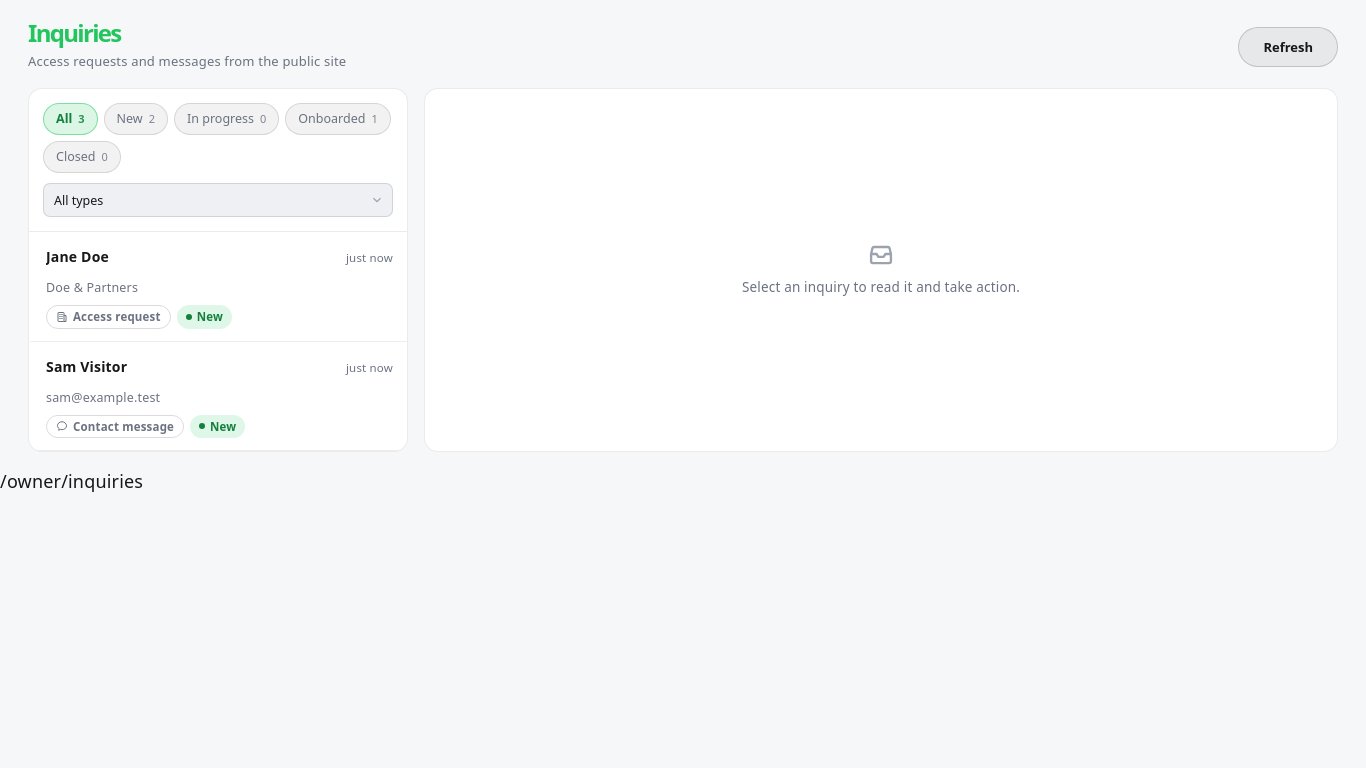
Test: Owner inquiries › onboards a firm from an access request with a prefilled form
What coordinates should you click on to do the following:
click the link "Jane Doe just now Doe & Partners Access request New"
I would click on:
 (77, 257)
Its box is [29, 232, 407, 342].
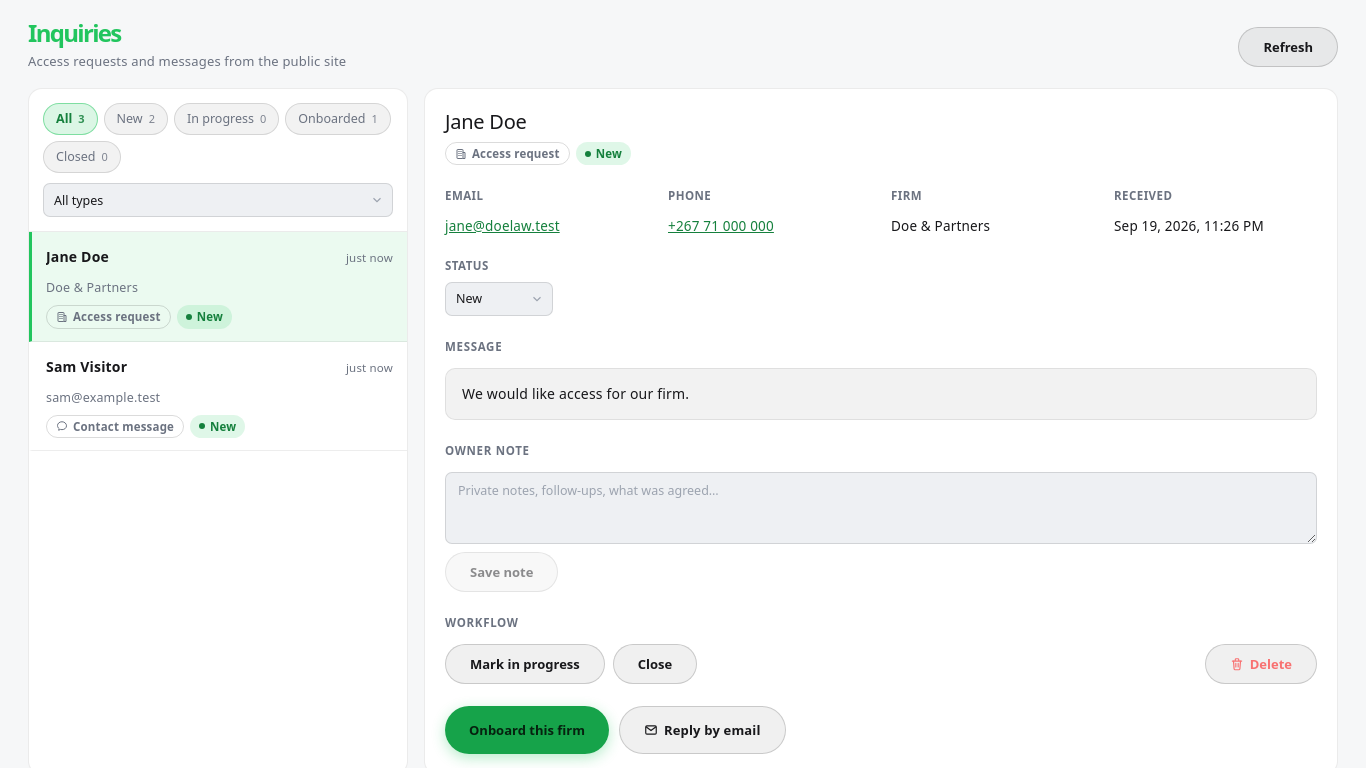
What coordinates should you click on to do the following:
click the button "Onboard this firm"
I would click on:
 (527, 730)
Its box is [445, 706, 609, 754].
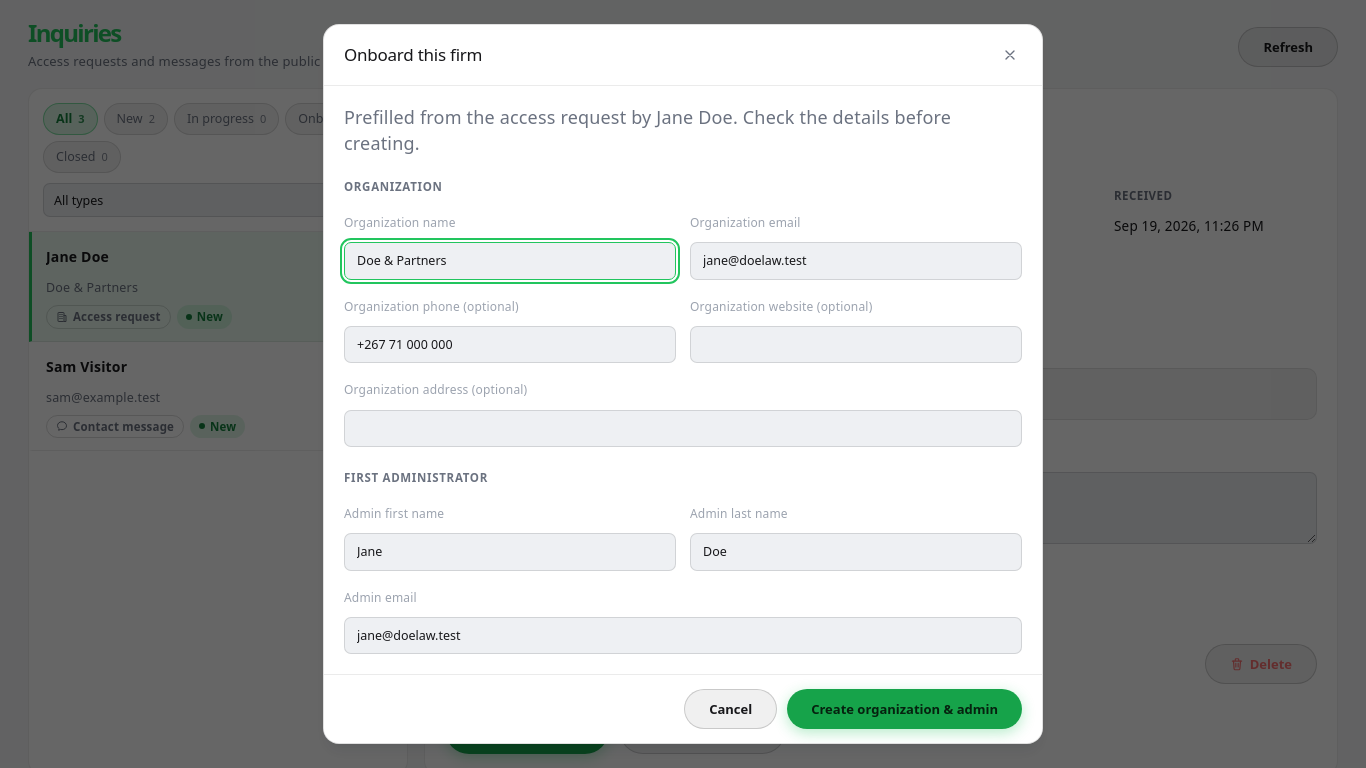
Check: the field labelled "Organization name" holds "Doe & Partners", box [344, 242, 676, 280]
Check: the field labelled "Admin first name" holds "Jane", box [344, 533, 676, 571]
Check: the field labelled "Admin last name" holds "Doe", box [690, 533, 1022, 571]
What coordinates should you click on to do the following:
click the button "Create organization & admin"
I would click on:
 (905, 709)
Its box is [787, 689, 1022, 729].
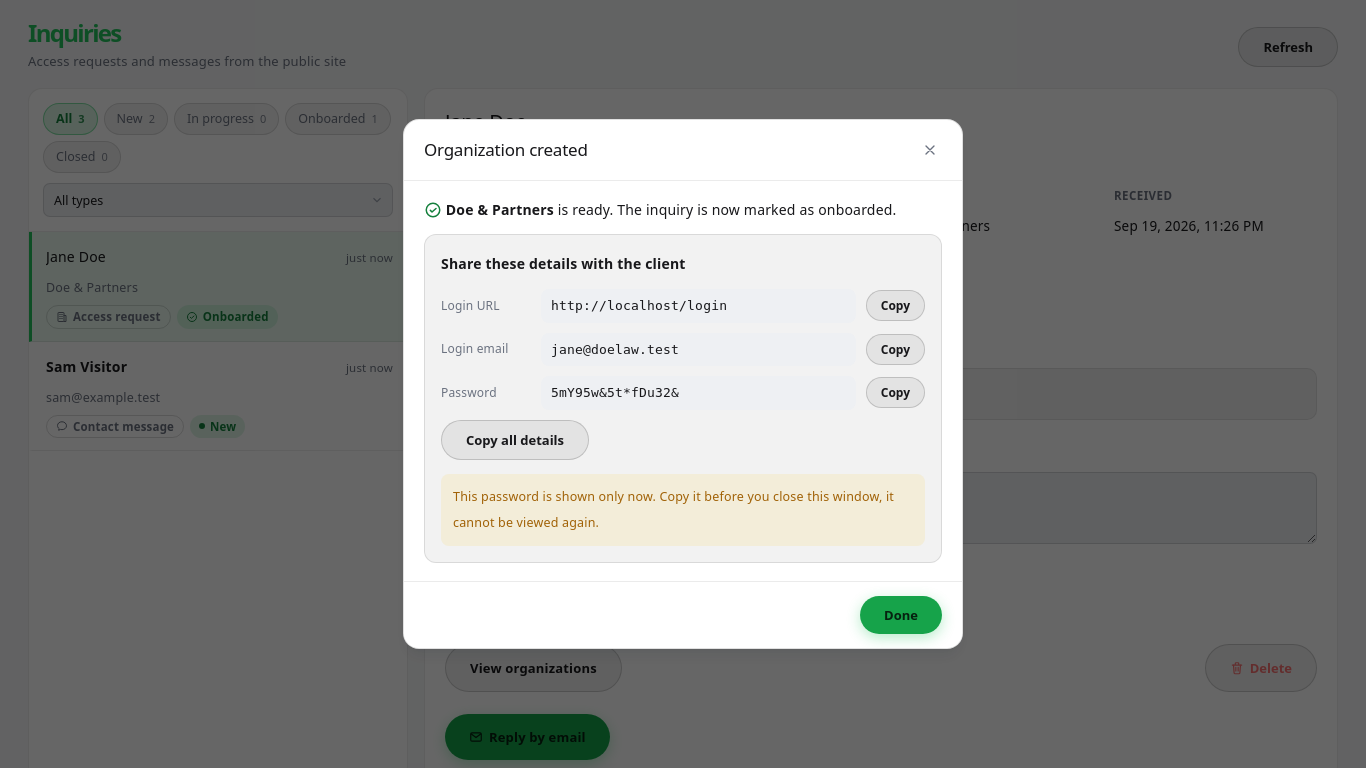
Check: the heading "Share these details with the client" is shown, box [441, 254, 686, 273]
Check: the text "shown only now" is shown, box [453, 488, 894, 531]
